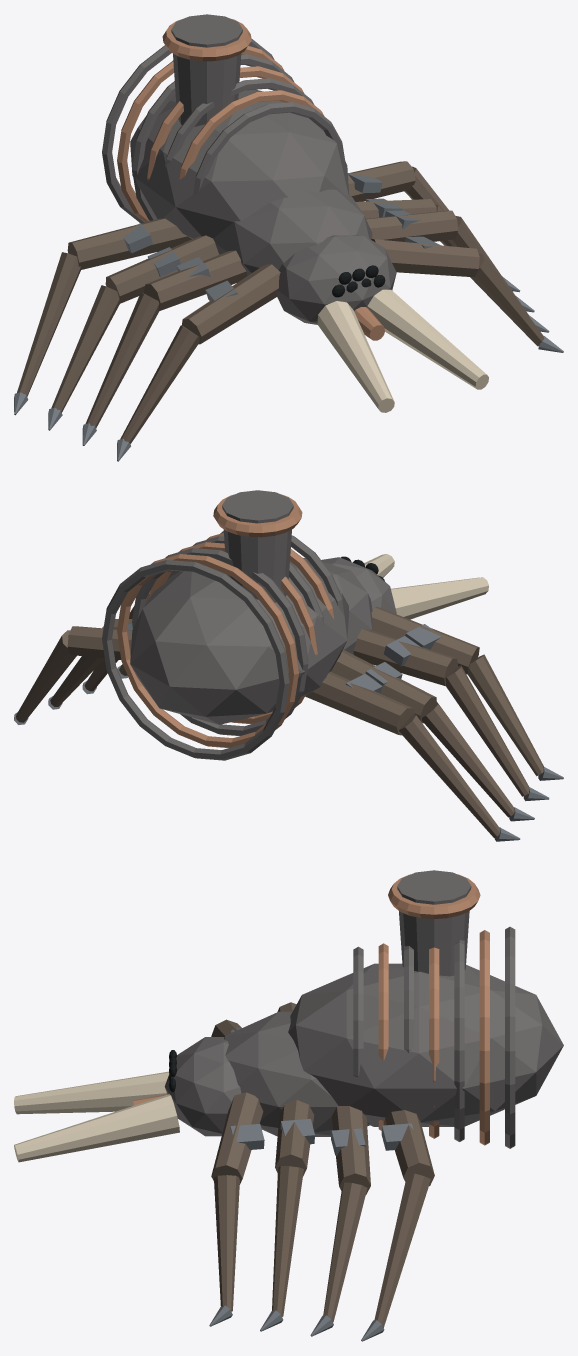
The model's file is matchjaw.glb.
The picture shows the model from 3 angles, top to bottom: view 1: azimuth 30°, elevation 25°; view 2: azimuth 150°, elevation 25°; view 3: azimuth 270°, elevation 25°; orthographic projection. The views are drawn at different scales.
Visible parts, largest first — view 1: Abdomen, Thorax, Head, Furnace chimney, Ivory match mandible.001, Ivory match mandible, Leg -1 0 upper, Leg -1 3 upper, Leg -1 1 upper, Leg 1 0 upper, Leg -1 3 lower, Leg -1 1 lower (+18 smaller); view 2: Abdomen, Bellows rib.006, Bellows rib.005, Furnace chimney, Bellows rib.004, Leg -1 3 upper, Leg -1 1 upper, Leg -1 1 lower, Leg -1 3 lower, Ivory match mandible, Leg -1 0 lower, Leg -1 2 lower (+14 smaller); view 3: Abdomen, Thorax, Furnace chimney, Head, Ivory match mandible.001, Ivory match mandible, Leg 1 1 lower, Leg 1 3 lower, Leg 1 0 lower, Leg 1 2 lower, Bellows rib.006, Leg 1 0 upper (+11 smaller).
Boxes of the visible parts, box(x1,y1,x2,y2) form: Abdomen: box(130, 89, 349, 238); Thorax: box(213, 189, 372, 275); Head: box(277, 234, 396, 324); Furnace chimney: box(171, 14, 242, 126); Ivory match mandible.001: box(367, 289, 488, 389); Ivory match mandible: box(317, 301, 394, 412); Leg -1 0 upper: box(182, 264, 280, 344); Leg -1 3 upper: box(67, 218, 191, 269); Leg -1 1 upper: box(143, 250, 247, 311); Leg 1 0 upper: box(371, 239, 479, 277); Leg -1 3 lower: box(17, 252, 80, 396); Leg -1 1 lower: box(85, 292, 159, 428); Abdomen: box(130, 558, 349, 724); Bellows rib.006: box(102, 560, 289, 760); Bellows rib.005: box(117, 554, 298, 747); Furnace chimney: box(222, 490, 293, 602); Bellows rib.004: box(132, 548, 308, 735); Leg -1 3 upper: box(305, 671, 414, 735); Leg -1 1 upper: box(353, 629, 457, 686); Leg -1 1 lower: box(445, 665, 529, 796); Leg -1 3 lower: box(399, 713, 499, 837); Ivory match mandible: box(391, 577, 488, 619); Leg -1 0 lower: box(468, 654, 543, 776); Leg -1 2 lower: box(422, 702, 514, 817); Abdomen: box(288, 963, 563, 1126); Thorax: box(224, 1011, 369, 1136); Furnace chimney: box(397, 870, 471, 976); Head: box(164, 1037, 241, 1136); Ivory match mandible.001: box(14, 1094, 179, 1162); Ivory match mandible: box(14, 1071, 169, 1114); Leg 1 1 lower: box(272, 1166, 303, 1316); Leg 1 3 lower: box(374, 1173, 430, 1327); Leg 1 0 lower: box(214, 1175, 239, 1311); Leg 1 2 lower: box(323, 1182, 367, 1322); Bellows rib.006: box(505, 926, 515, 1148); Leg 1 0 upper: box(211, 1092, 263, 1184).
Bounding box in the file's own units: 3.59 × 2.07 × 3.26.
